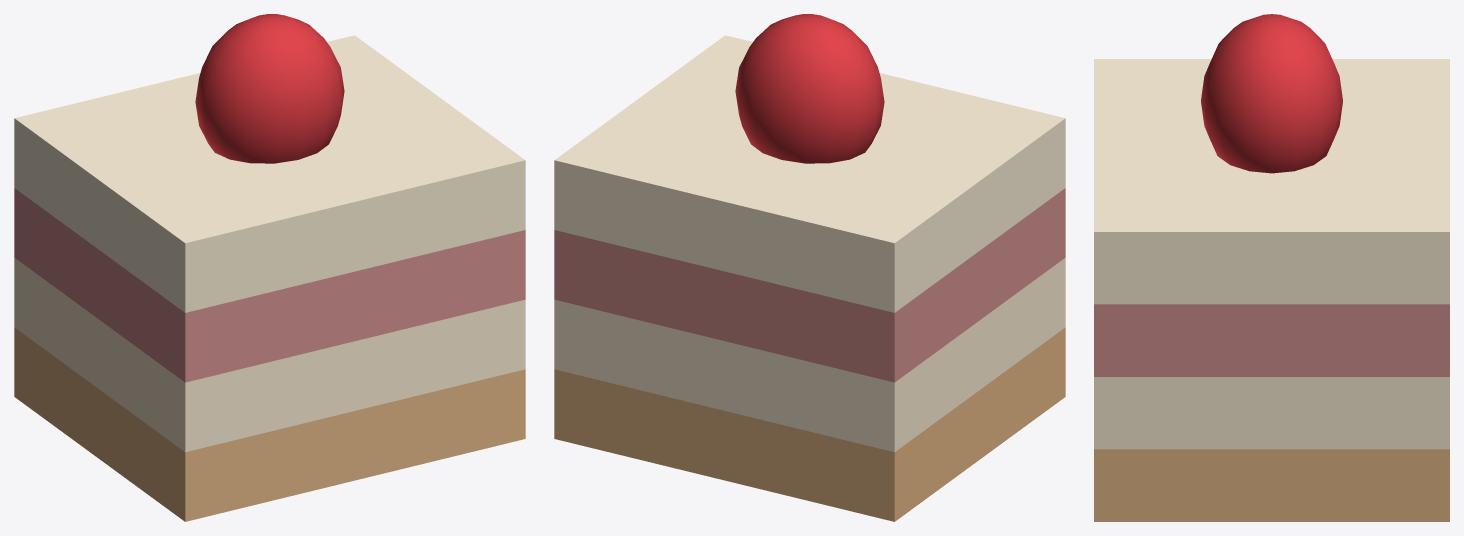
The model's file is cake.glb.
3 views of the same model, side by side, from view 1: azimuth 30°, elevation 25°; view 2: azimuth 150°, elevation 25°; view 3: azimuth 270°, elevation 25° (orthographic). The views are drawn at different scales.
Visible parts, largest first — view 1: Cake layer.003, Cake layer, Cake layer.002, Cake layer.001, Strawberry; view 2: Cake layer.003, Cake layer, Cake layer.002, Cake layer.001, Strawberry; view 3: Cake layer.003, Cake layer, Cake layer.001, Cake layer.002, Strawberry.
Part boxes in pixels (left/top/right/bottom): Cake layer.003: left=14, top=35, right=525, bottom=312; Cake layer: left=14, top=327, right=525, bottom=521; Cake layer.002: left=14, top=188, right=525, bottom=382; Cake layer.001: left=14, top=258, right=525, bottom=452; Strawberry: left=195, top=14, right=344, bottom=163; Cake layer.003: left=554, top=35, right=1065, bottom=312; Cake layer: left=554, top=327, right=1065, bottom=521; Cake layer.002: left=554, top=188, right=1065, bottom=382; Cake layer.001: left=554, top=258, right=1065, bottom=452; Strawberry: left=735, top=14, right=884, bottom=163; Cake layer.003: left=1094, top=59, right=1449, bottom=304; Cake layer: left=1094, top=449, right=1449, bottom=521; Cake layer.001: left=1094, top=377, right=1449, bottom=449; Cake layer.002: left=1094, top=304, right=1449, bottom=376; Strawberry: left=1201, top=14, right=1342, bottom=173.
Size of the model in its own units: 0.46 by 0.515 by 0.4.
